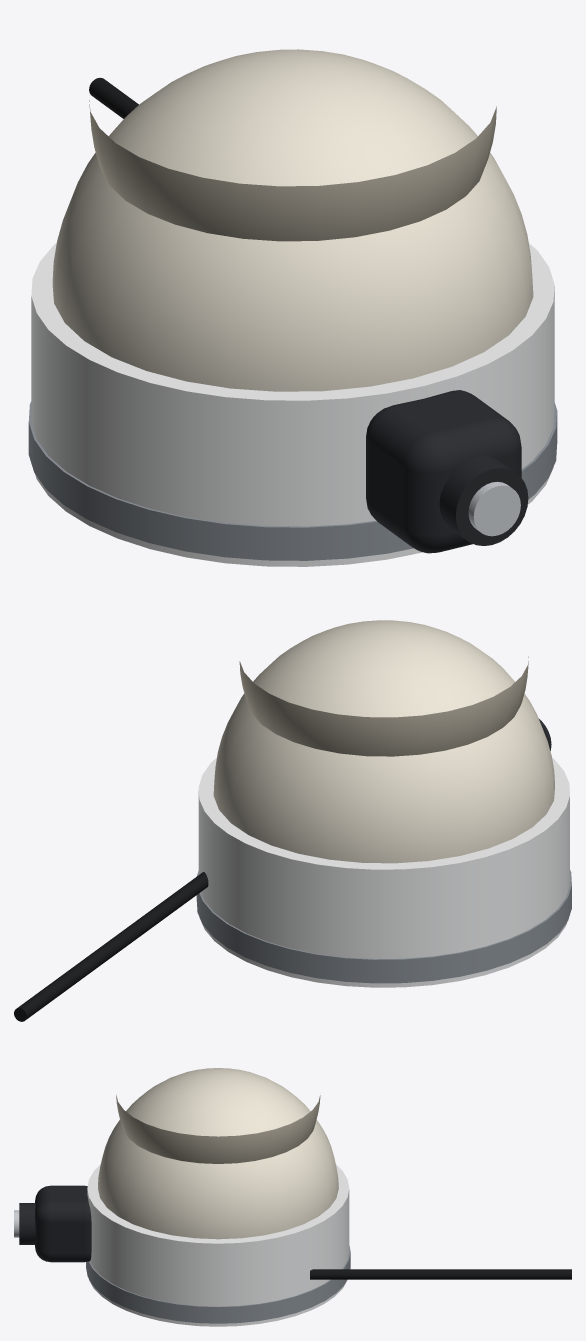
Rendered from nbi-1.glb.
The picture shows the model from 3 angles, top to bottom: view 1: azimuth 30°, elevation 25°; view 2: azimuth 150°, elevation 25°; view 3: azimuth 270°, elevation 25°; orthographic projection. The views are drawn at different scales.
Size of the model in its own units: 0.202 by 0.162 by 0.426.
